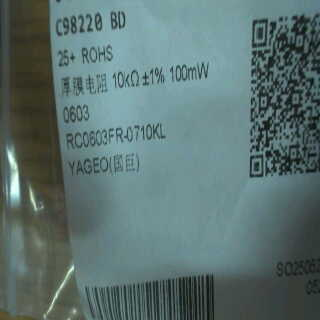10kR: (111, 69, 140, 91)
